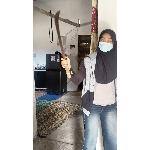Golok: (50, 10, 82, 82)
